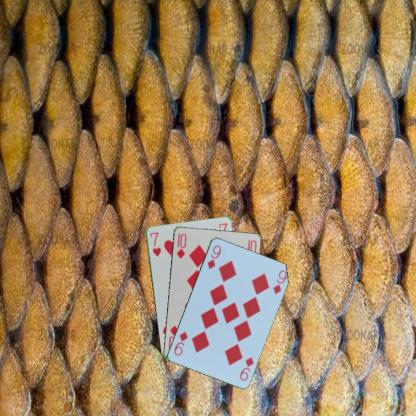10d: (174, 230, 187, 260)
7h: (148, 229, 162, 258)
9d: (204, 242, 223, 270), (237, 354, 255, 382)
